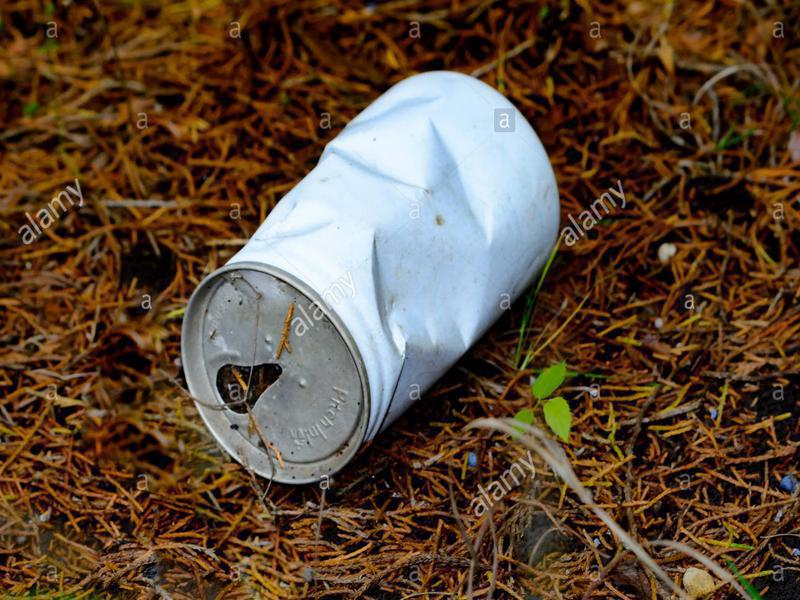can: (150, 66, 565, 488)
